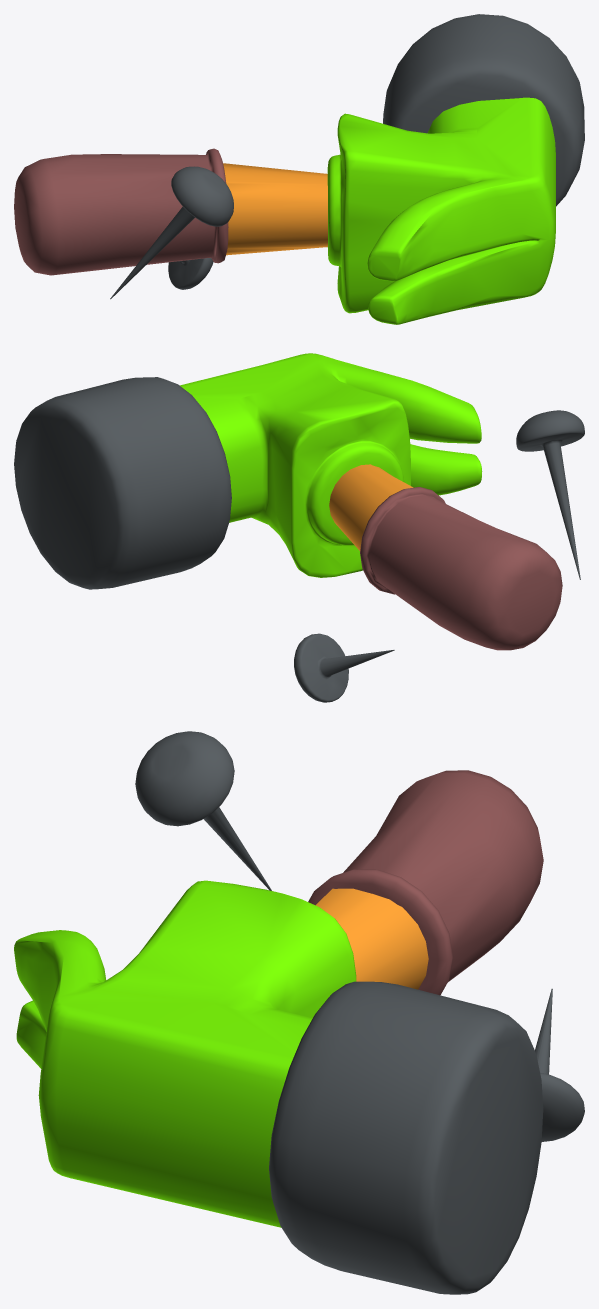
The model's file is Toy159.fbx.
3 renders of one model, top to bottom at view 1: azimuth 30°, elevation 25°; view 2: azimuth 150°, elevation 25°; view 3: azimuth 270°, elevation 25°, orthographic. The views are drawn at different scales.
Parts seen in each view (by area): view 1: Toy159; view 2: Toy159; view 3: Toy159.
Part boxes in pixels (x1=…): Toy159: x1=14, y1=14, x2=584, y2=324; Toy159: x1=14, y1=353, x2=584, y2=702; Toy159: x1=14, y1=731, x2=584, y2=1294.
Bounding box in the file's own units: 0.2285 × 0.0911 × 0.1431.
